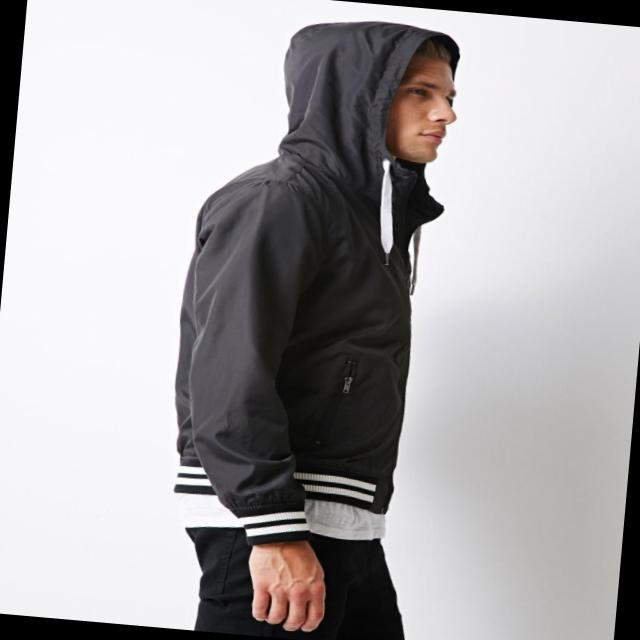Jacket: (150, 148, 470, 532)
